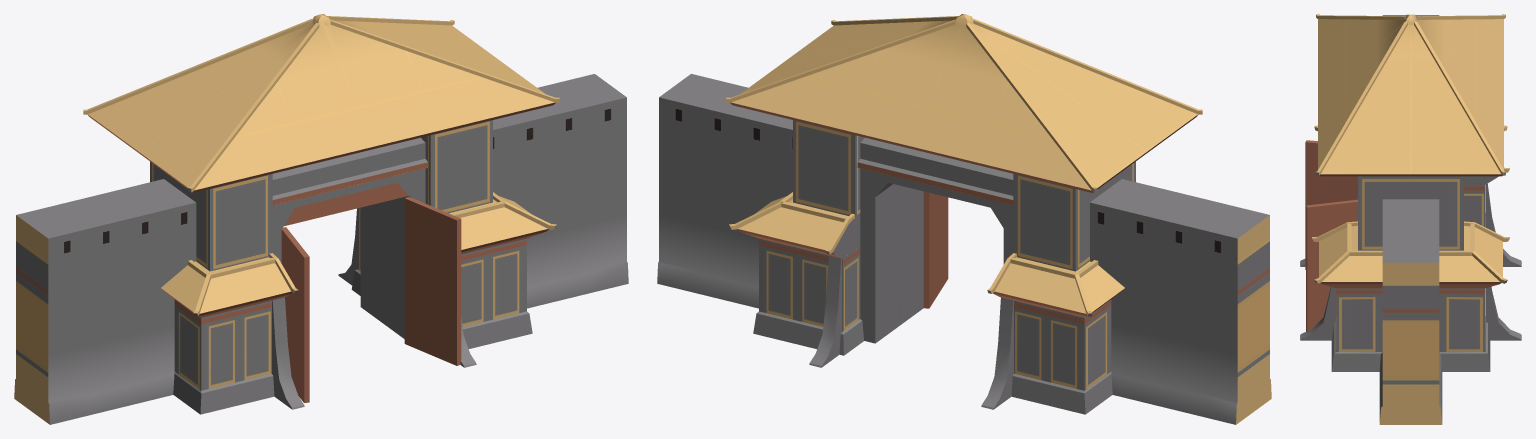
The model's file is n_snow_m_empiregate_01.glb.
3 views of the same model, side by side, from view 1: azimuth 30°, elevation 25°; view 2: azimuth 150°, elevation 25°; view 3: azimuth 270°, elevation 25° (orthographic). The views are drawn at different scales.
Parts seen in each view (by area): view 1: Box25; view 2: Box25; view 3: Box25.
Boxes of the visible parts, box(x1,y1,x2,y2) form: Box25: box(14, 14, 628, 424); Box25: box(657, 14, 1271, 424); Box25: box(1300, 14, 1521, 424).
Size of the model in its own units: 36.26 by 19.53 by 13.69.
1 material, 1 textured.
